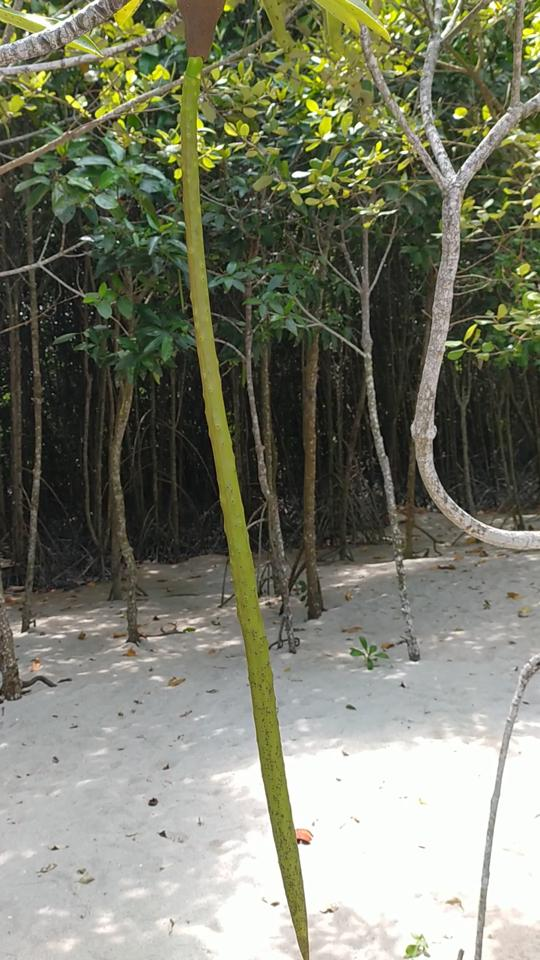mentah: (168, 1, 328, 958)
